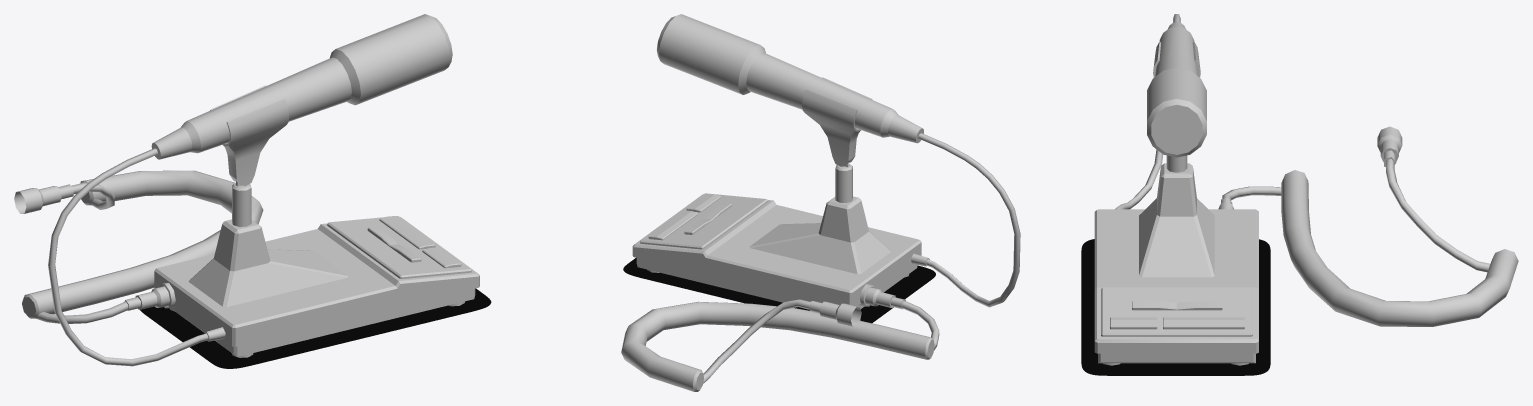
File: microphone.fbx
The picture shows the model from 3 angles, left to right: view 1: azimuth 30°, elevation 25°; view 2: azimuth 150°, elevation 25°; view 3: azimuth 270°, elevation 25°; orthographic projection. The views are drawn at different scales.
Visible parts, largest first — view 1: microphone, microphone_shadow; view 2: microphone, microphone_shadow; view 3: microphone, microphone_shadow.
Part boxes in pixels (x1,y1,x2,y2): microphone: (14, 14, 479, 366); microphone_shadow: (140, 288, 491, 368); microphone: (621, 14, 1020, 391); microphone_shadow: (623, 257, 935, 323); microphone: (1094, 14, 1518, 365); microphone_shadow: (1081, 239, 1270, 375).
Bounding box in the file's own units: 35.97 × 20.5 × 32.57.
